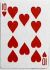ten: (1, 1, 49, 69)
